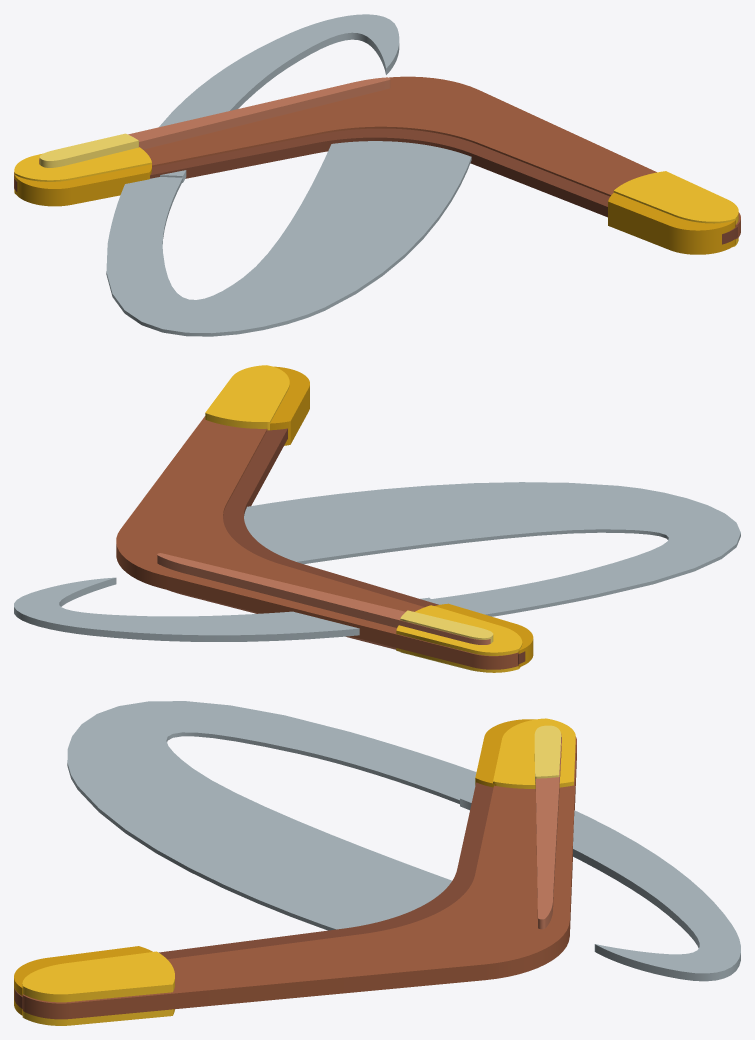
The model's file is emoji_u1fa83.glb.
3 views of the same model, one above another, from view 1: azimuth 30°, elevation 25°; view 2: azimuth 150°, elevation 25°; view 3: azimuth 270°, elevation 25° (orthographic). The views are drawn at different scales.
Parts seen in each view (by area): view 1: emoji_u1fa83; view 2: emoji_u1fa83; view 3: emoji_u1fa83.
Boxes of the visible parts, x1,y1,x2,y2 form: emoji_u1fa83: [14, 14, 740, 336]; emoji_u1fa83: [14, 365, 740, 672]; emoji_u1fa83: [14, 701, 740, 1025].
Bounding box in the file's own units: 0.0336 × 0.002 × 0.0334.
